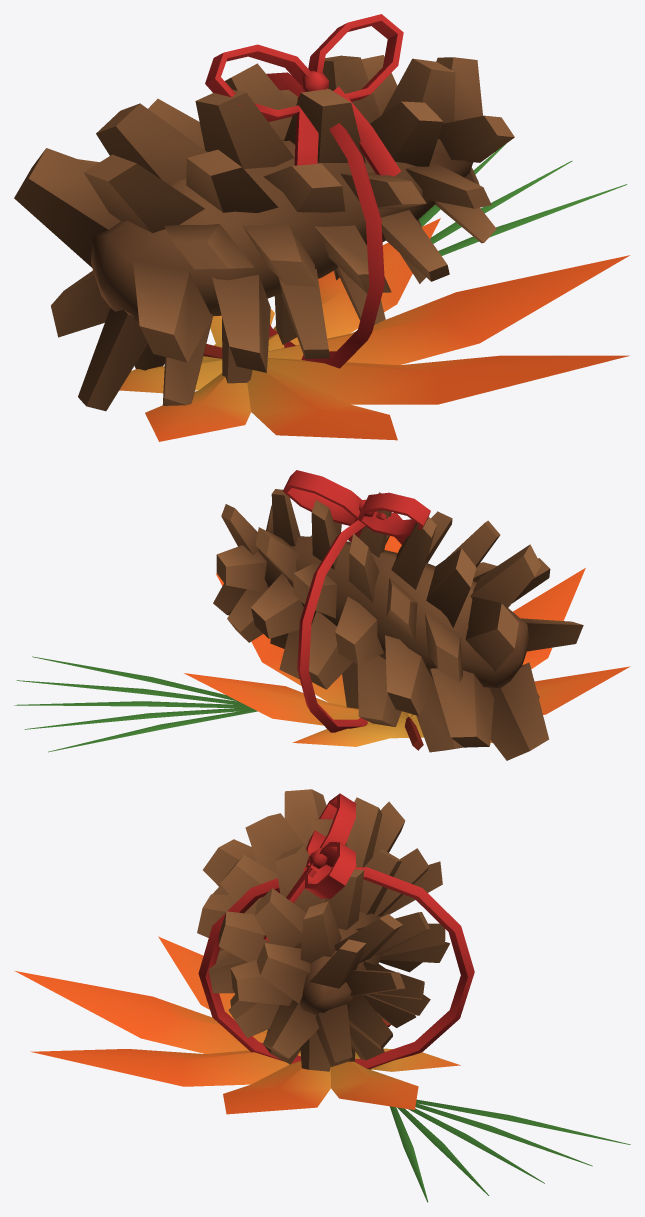
Rendered from gift-pinecone.glb.
3 views of the same model, one above another, from view 1: azimuth 30°, elevation 25°; view 2: azimuth 150°, elevation 25°; view 3: azimuth 270°, elevation 25° (orthographic). The views are drawn at different scales.
Visible parts, largest first — view 1: Gift pinecone Pine cone, Gift pinecone Maple leaf, Gift pinecone Red string, Gift pinecone Pine needles; view 2: Gift pinecone Pine cone, Gift pinecone Maple leaf, Gift pinecone Red string, Gift pinecone Pine needles; view 3: Gift pinecone Pine cone, Gift pinecone Maple leaf, Gift pinecone Red string, Gift pinecone Pine needles.
Boxes of the visible parts, x1,y1,x2,y2 form: Gift pinecone Pine cone: (14, 55, 514, 411); Gift pinecone Maple leaf: (119, 218, 629, 441); Gift pinecone Red string: (205, 14, 403, 368); Gift pinecone Pine needles: (419, 144, 627, 255); Gift pinecone Pine cone: (213, 489, 583, 760); Gift pinecone Maple leaf: (184, 536, 630, 750); Gift pinecone Red string: (283, 470, 430, 732); Gift pinecone Pine needles: (14, 656, 257, 752); Gift pinecone Pine cone: (197, 789, 449, 1071); Gift pinecone Maple leaf: (15, 936, 460, 1114); Gift pinecone Red string: (198, 793, 474, 1069); Gift pinecone Pine needles: (390, 1099, 630, 1202).
Bounding box in the file's own units: 0.2529 × 0.1217 × 0.2636.
